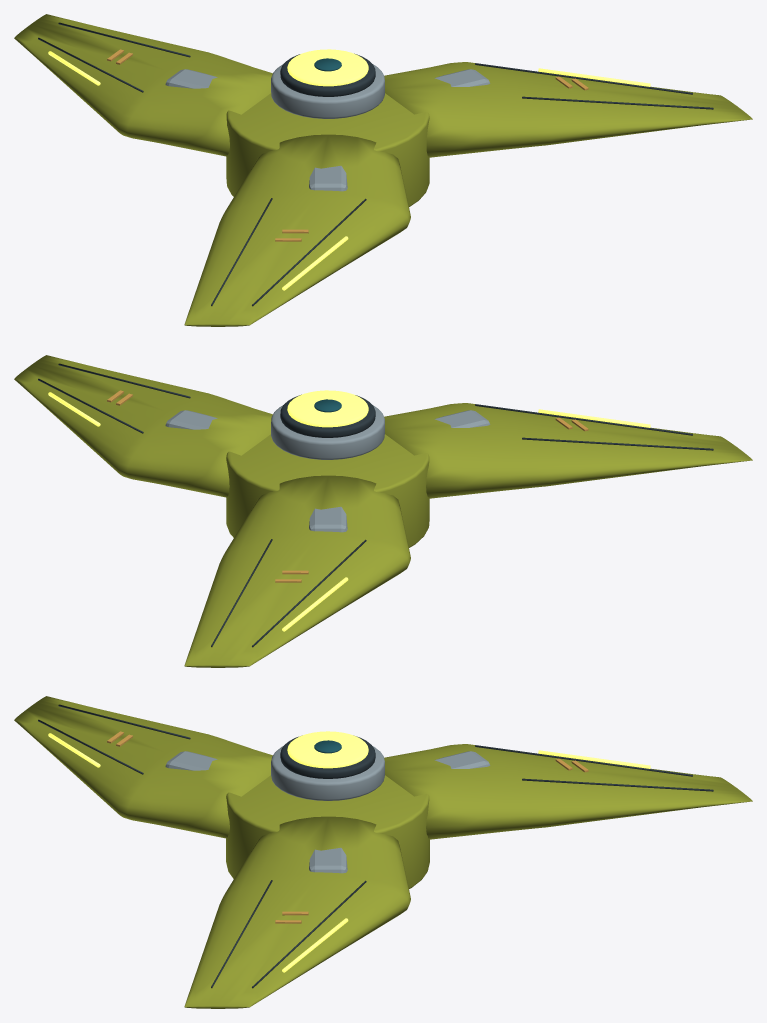
File: enemy-2.glb
3 renders of one model, top to bottom at view 1: azimuth 30°, elevation 25°; view 2: azimuth 150°, elevation 25°; view 3: azimuth 270°, elevation 25°, orthographic.
Visible parts, largest first — view 1: SM_Hull; view 2: SM_Hull; view 3: SM_Hull.
Part boxes in pixels (left/top/right/bottom): SM_Hull: left=14, top=14, right=752, bottom=326; SM_Hull: left=14, top=355, right=752, bottom=667; SM_Hull: left=14, top=696, right=752, bottom=1008.
Bounding box in the file's own units: 6.14 × 1.09 × 6.16.
